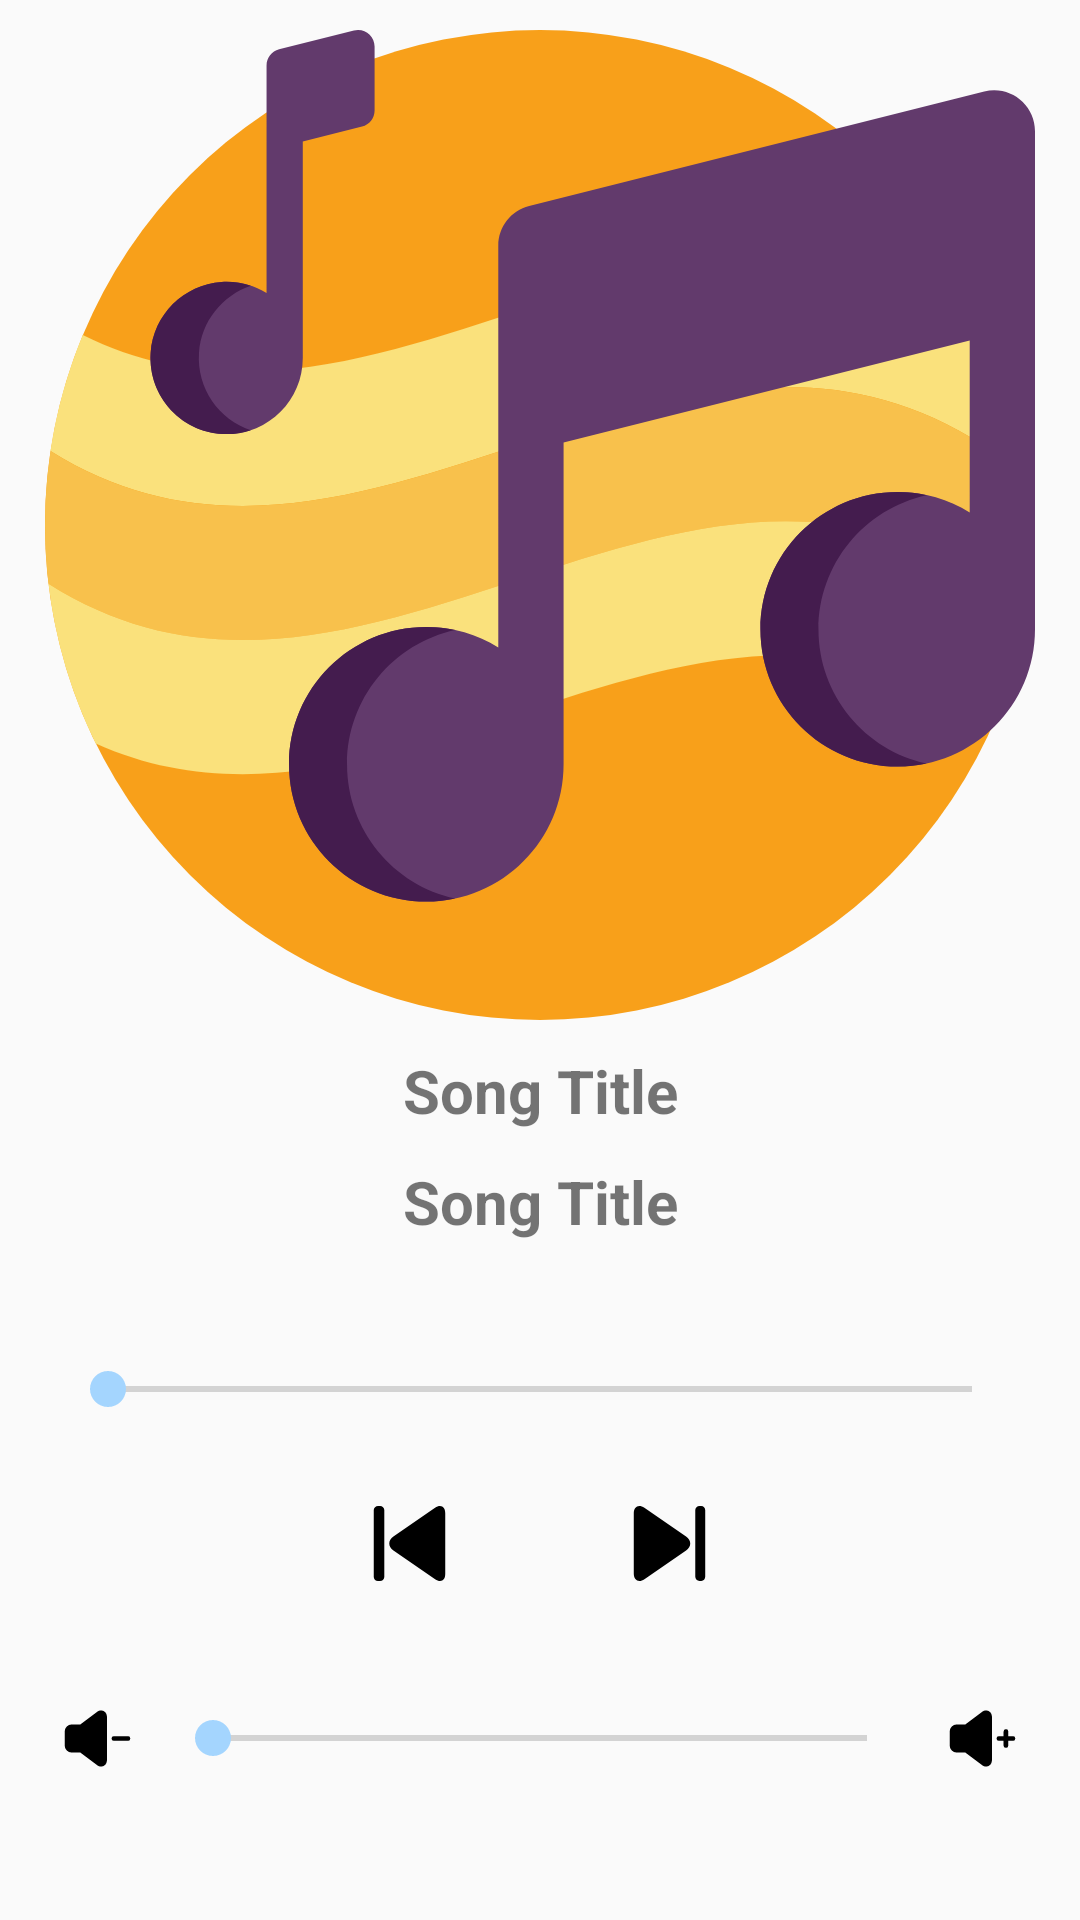

Icon click points for this 1080 x 1920 phone screenshot, format (x,y):
next: (669,1543)
previous: (409,1543)
volume less: (97,1738)
volume more: (982,1738)
